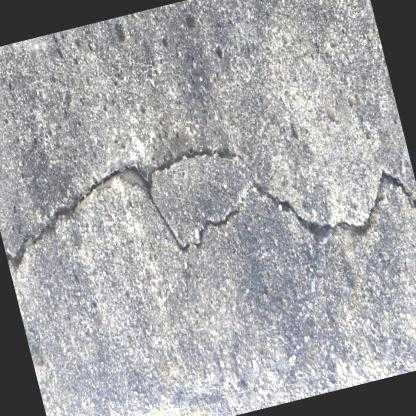crack: (4, 145, 416, 267), (153, 185, 247, 243)
